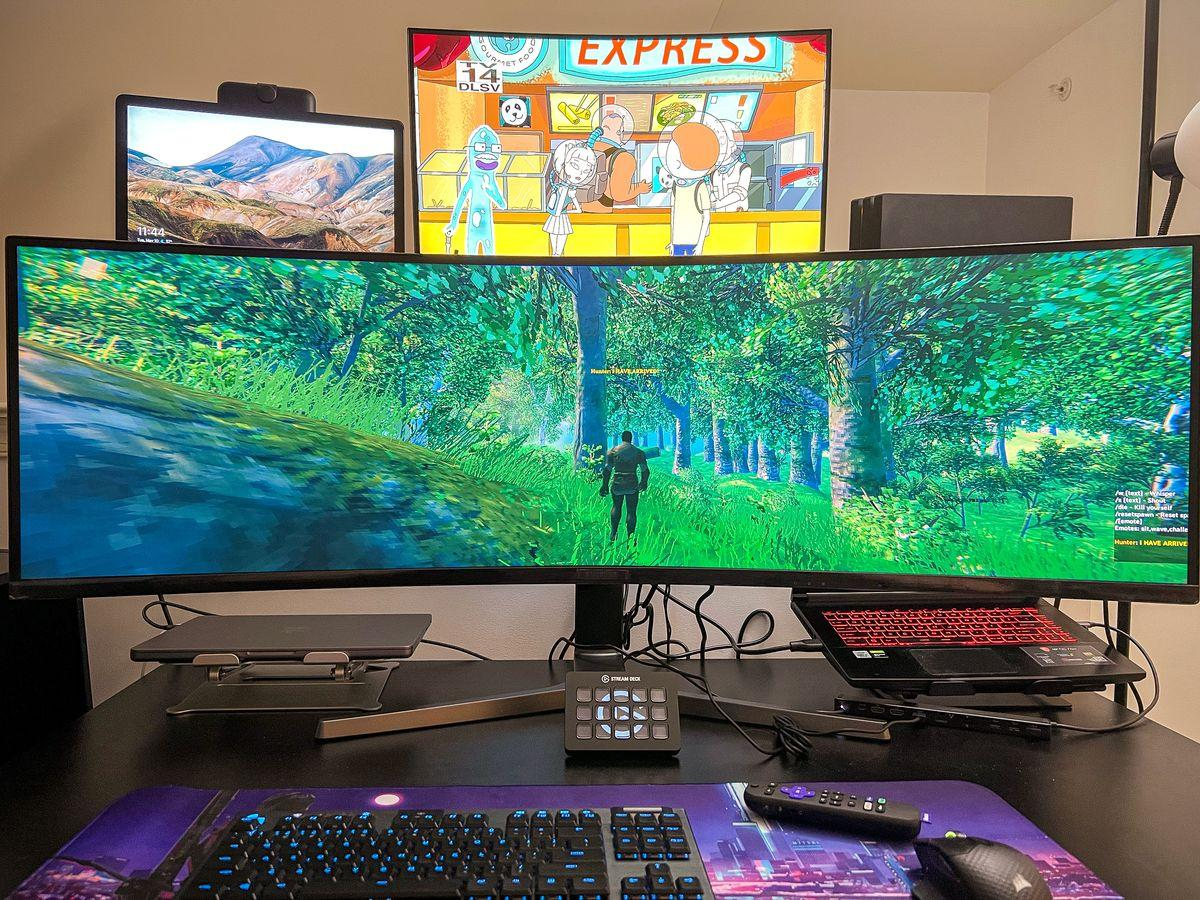monitor: (3, 230, 1200, 758)
